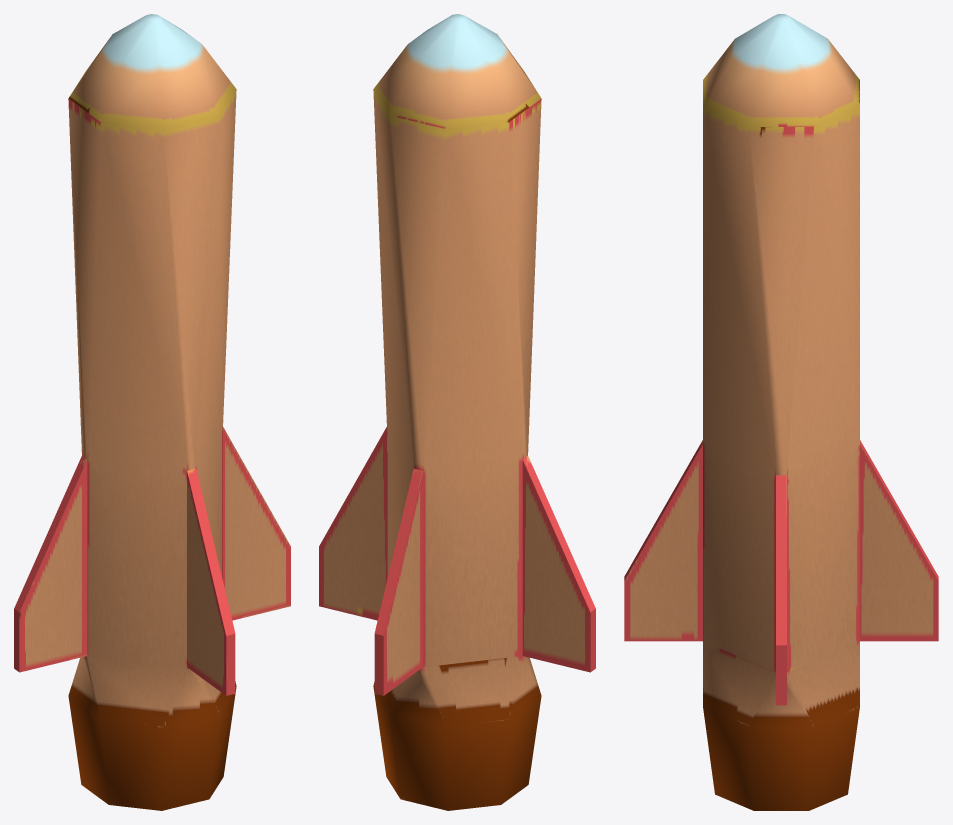
File: MissilePickup.fbx
3 views of the same model, side by side, from view 1: azimuth 30°, elevation 25°; view 2: azimuth 150°, elevation 25°; view 3: azimuth 270°, elevation 25° (orthographic).
Parts seen in each view (by area): view 1: MissilePickup_LOD0; view 2: MissilePickup_LOD0; view 3: MissilePickup_LOD0.
Part boxes in pixels (x1=…): MissilePickup_LOD0: x1=14, y1=14, x2=290, y2=810; MissilePickup_LOD0: x1=319, y1=14, x2=595, y2=810; MissilePickup_LOD0: x1=624, y1=14, x2=938, y2=810.
Size of what is drawn, in the model's own units: 76.48 by 206 by 76.48.
Materials: 1 (1 with a texture image).
